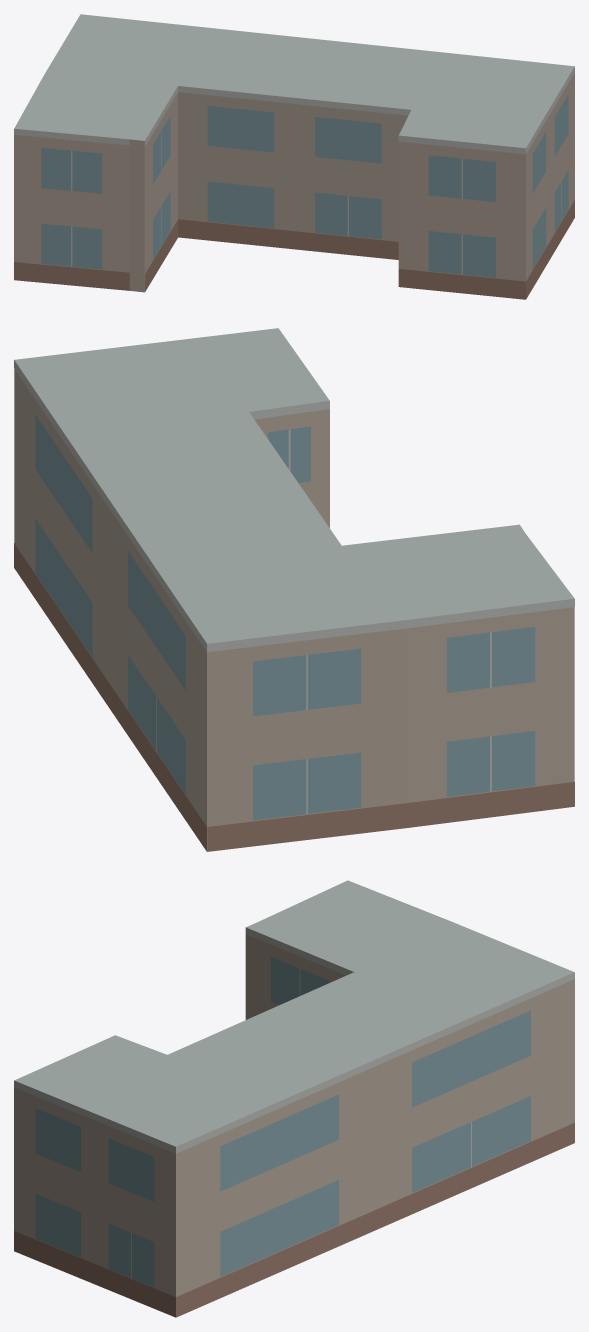
File: survey-upis-33030451.glb
3 renders of one model, top to bottom at view 1: azimuth 30°, elevation 25°; view 2: azimuth 150°, elevation 25°; view 3: azimuth 270°, elevation 25°, orthographic. The views are drawn at different scales.
Parts seen in each view (by area): view 1: survey-upis-33030451.tmp; view 2: survey-upis-33030451.tmp; view 3: survey-upis-33030451.tmp.
Part boxes in pixels (x1,y1,x2,y2): survey-upis-33030451.tmp: (14, 14, 574, 299); survey-upis-33030451.tmp: (14, 328, 574, 851); survey-upis-33030451.tmp: (14, 880, 574, 1317).
Size of the model in its own units: 20.43 by 6.1 by 18.16.
